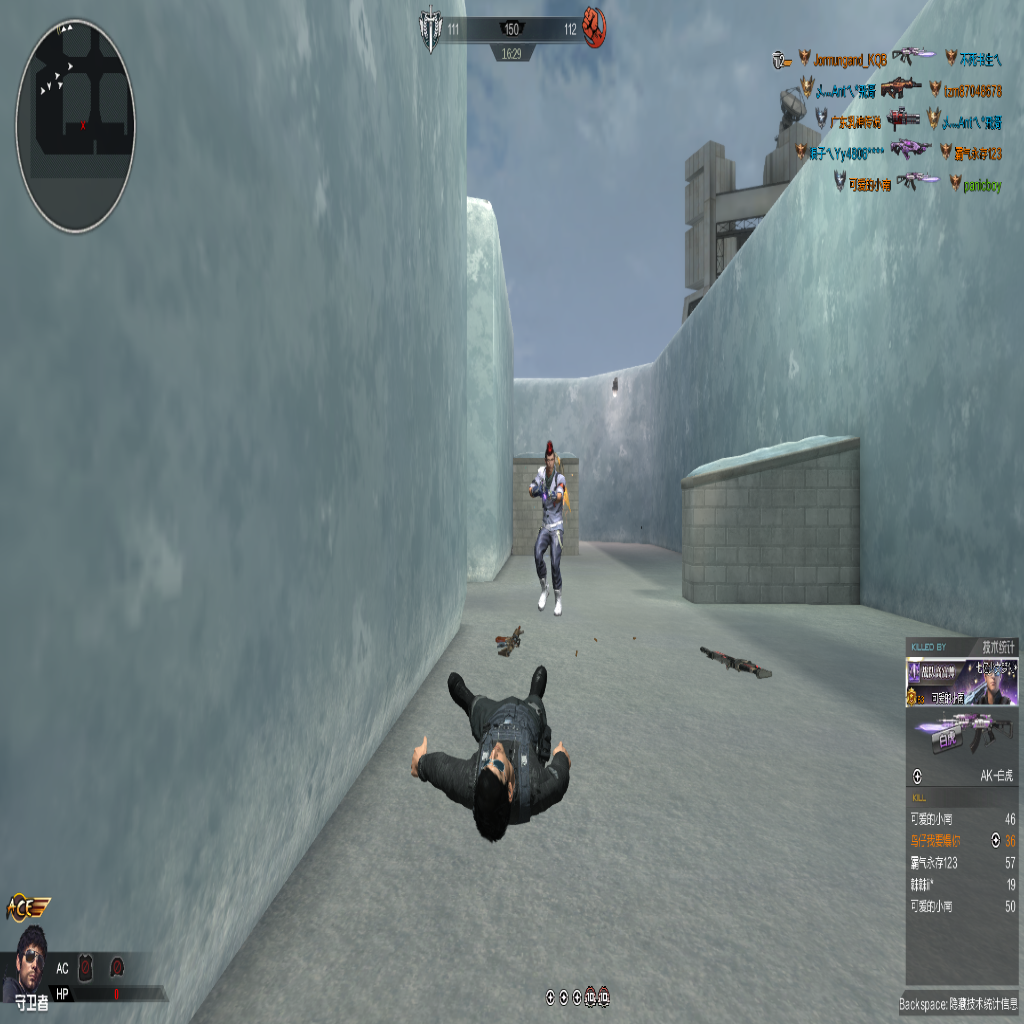tt: (528, 440, 568, 620)
